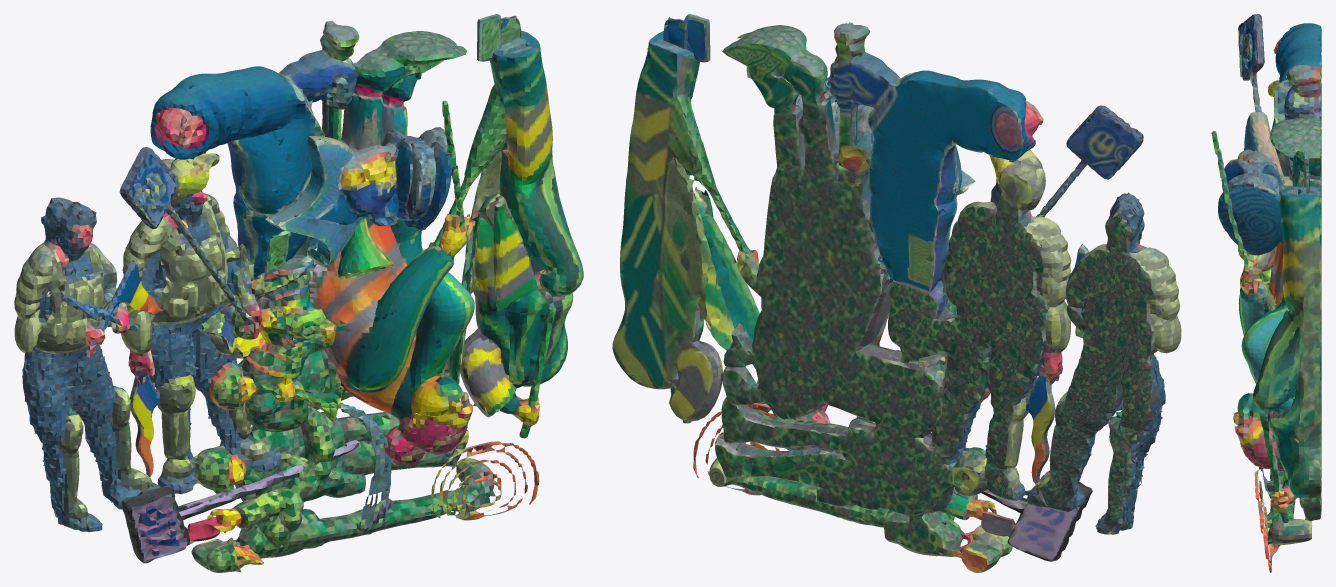
Rendered from irlo1_single.glb.
3 views of the same model, side by side, from view 1: azimuth 30°, elevation 25°; view 2: azimuth 150°, elevation 25°; view 3: azimuth 270°, elevation 25° (orthographic). The views are drawn at different scales.
Parts seen in each view (by area): view 1: irlo1; view 2: irlo1; view 3: irlo1.
Part boxes in pixels (x1,y1,x2,y2): irlo1: (14,14,583,572); irlo1: (612,14,1181,572); irlo1: (1211,14,1321,572).
Bounding box in the file's own units: 0.9997 × 0.8782 × 0.2024.
Materials: 1 (1 with a texture image).
